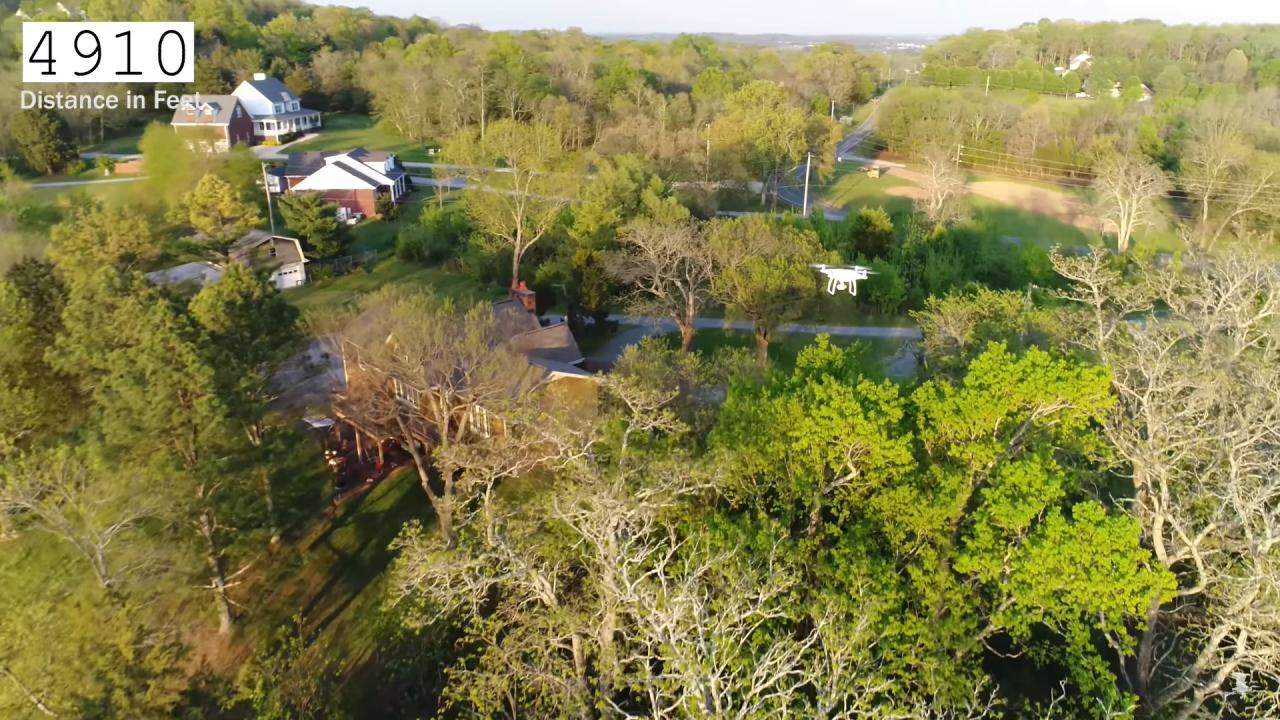Drone: (800, 251, 888, 305)
